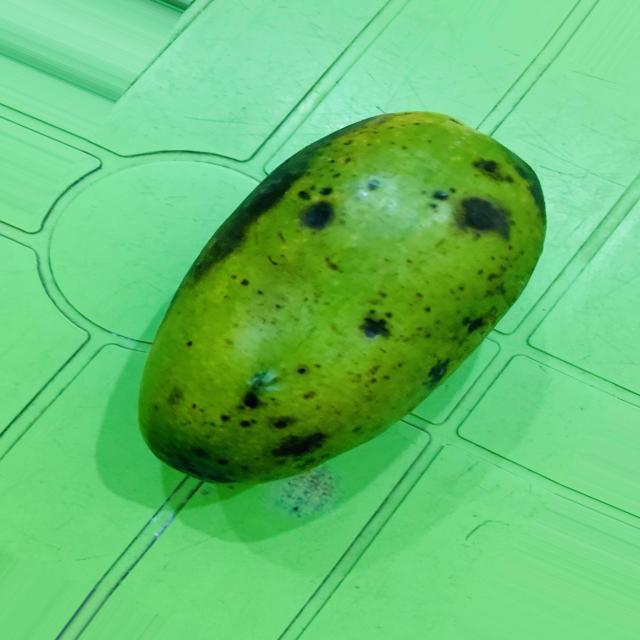Mango: (137, 108, 554, 482)
